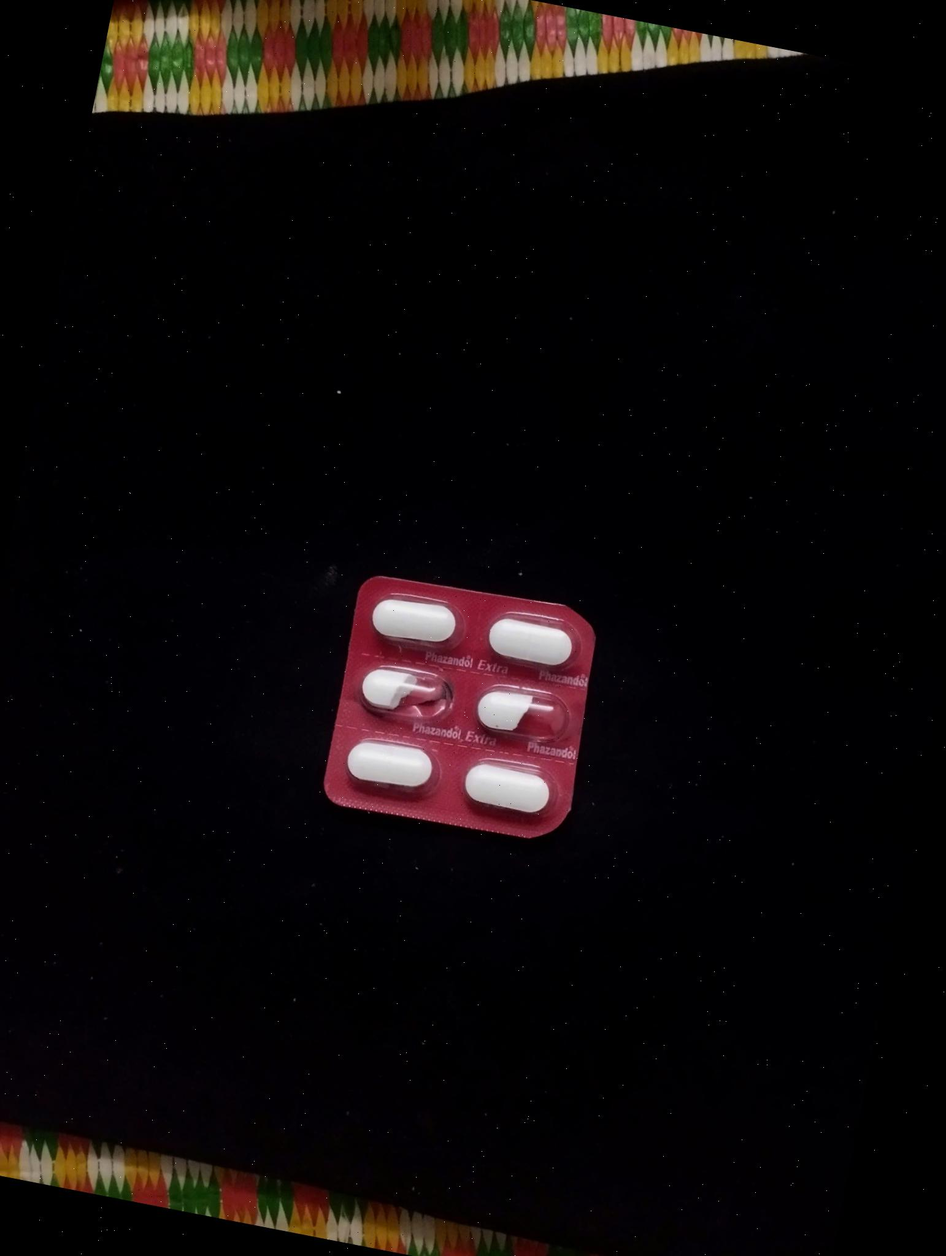Full: (475, 603, 582, 679), (332, 728, 444, 800), (456, 757, 563, 825), (360, 586, 464, 652)
Partial: (353, 651, 467, 733), (469, 676, 577, 752)
